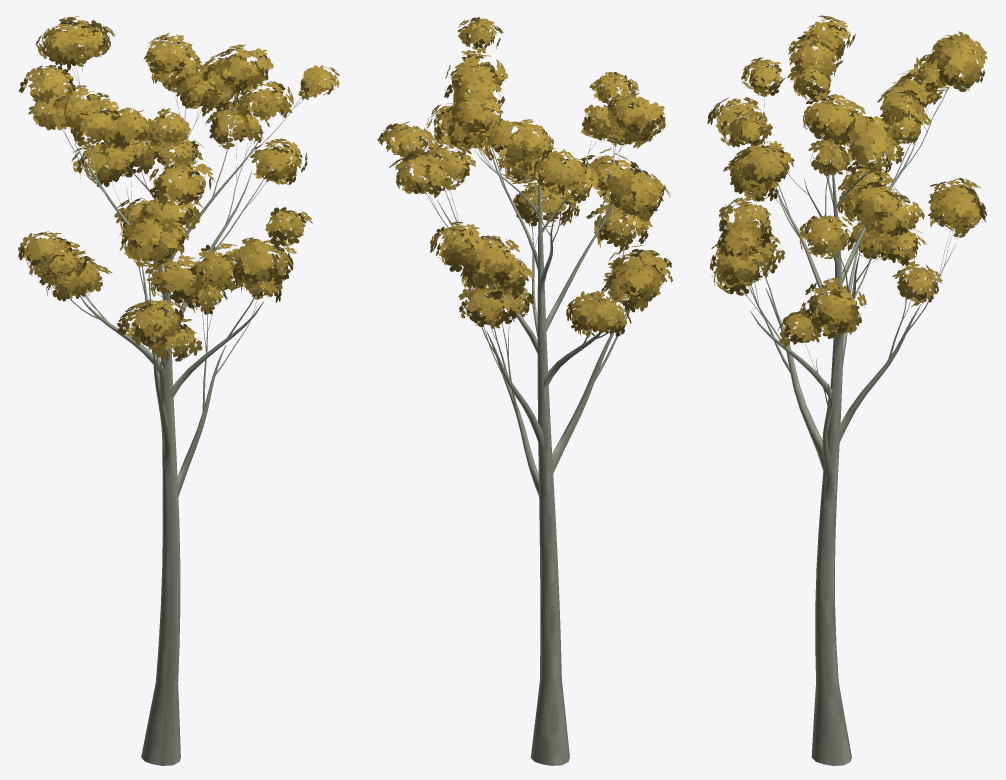
The model's file is tree.gltf.
3 renders of one model, left to right at view 1: azimuth 30°, elevation 25°; view 2: azimuth 150°, elevation 25°; view 3: azimuth 270°, elevation 25°, orthographic. The views are drawn at different scales.
Visible parts, largest first — view 1: Tree_LOD0; view 2: Tree_LOD0; view 3: Tree_LOD0.
Boxes of the visible parts, left/top/right/bottom form: Tree_LOD0: left=18, top=16, right=339, bottom=765; Tree_LOD0: left=377, top=17, right=672, bottom=765; Tree_LOD0: left=707, top=15, right=987, bottom=765.
Bounding box in the file's own units: 11.22 × 26.51 × 9.75.
Materials: 2 (2 with a texture image).
